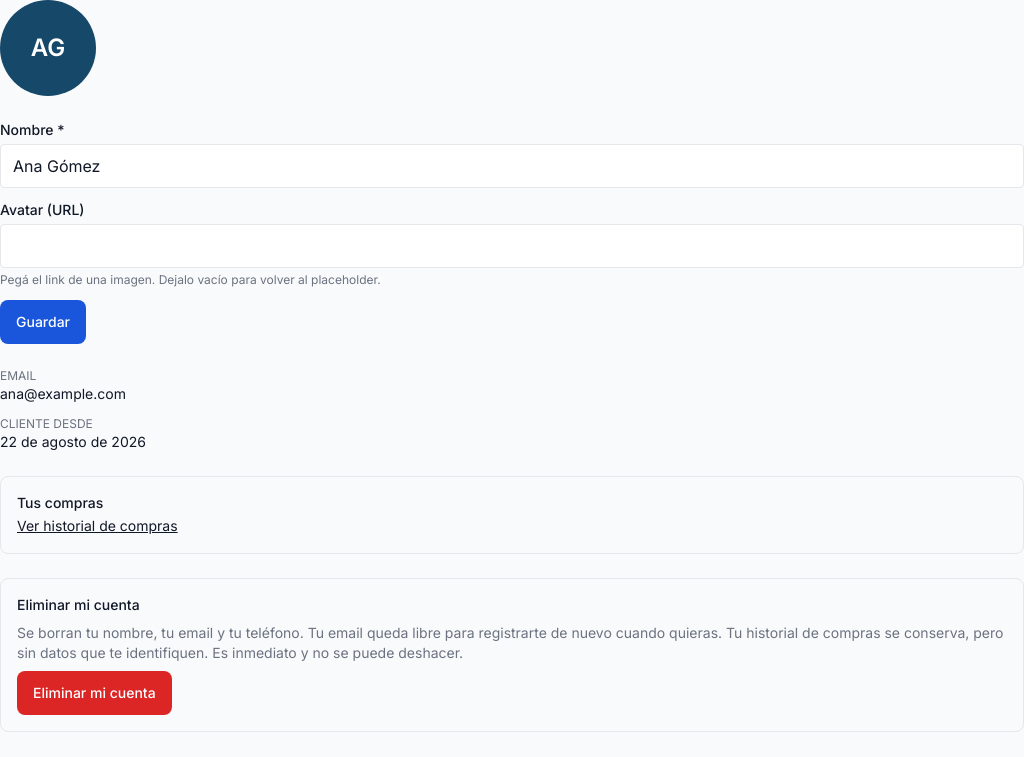
Accesibilidad de las pantallas de cuenta (T3.4) › la sección "Eliminar mi cuenta" (US-020), con el diálogo cerrado y abierto, no tiene violaciones
Click the button "Eliminar mi cuenta" at (94, 693), box [17,671,172,715]
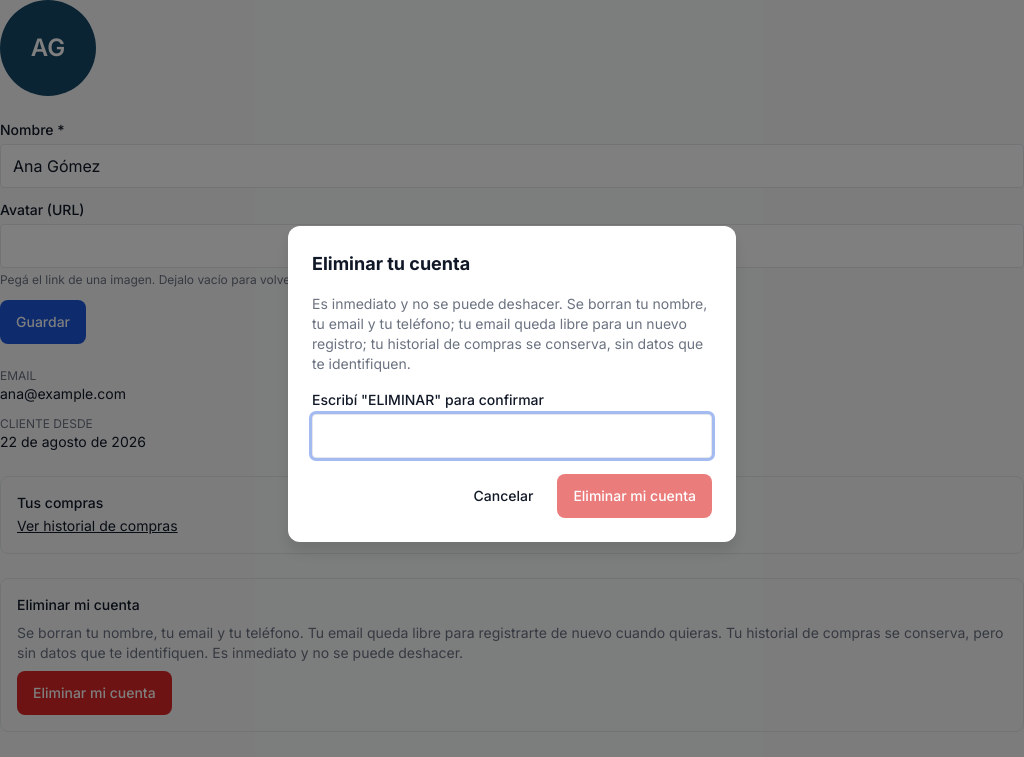
Now the dialog is shown, box [288,226,736,542]
